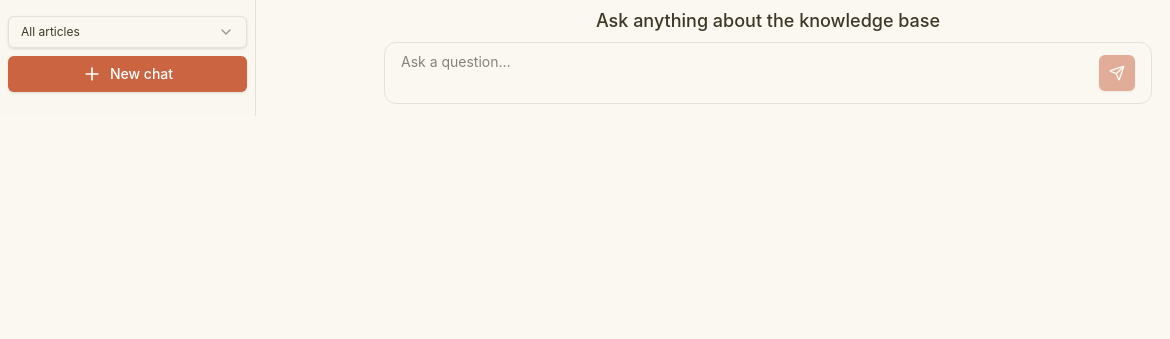
Chat page › streams answer, shows citation marker, source panel with Doc, and usage
The image size is (1170, 339).
Note: Find the textarea and type a query
Type "what is kaas" into the text box. click: (746, 73)
box: [401,51,1091,95]
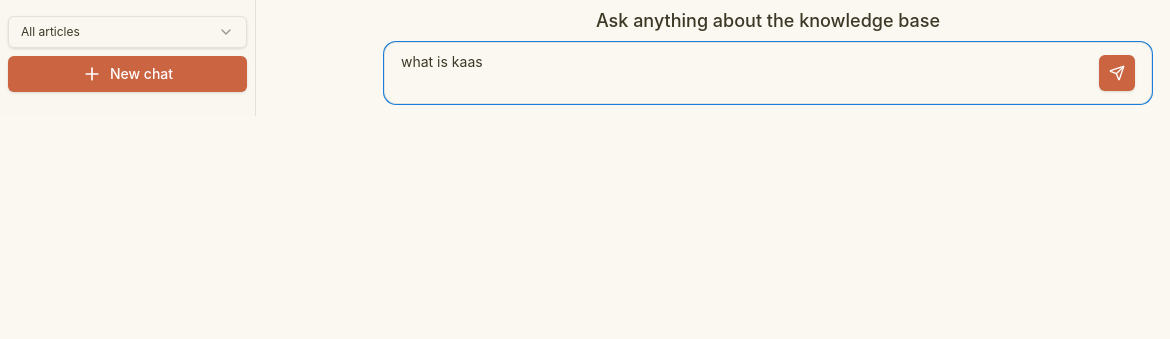
Note: Submit via Enter
Press Enter
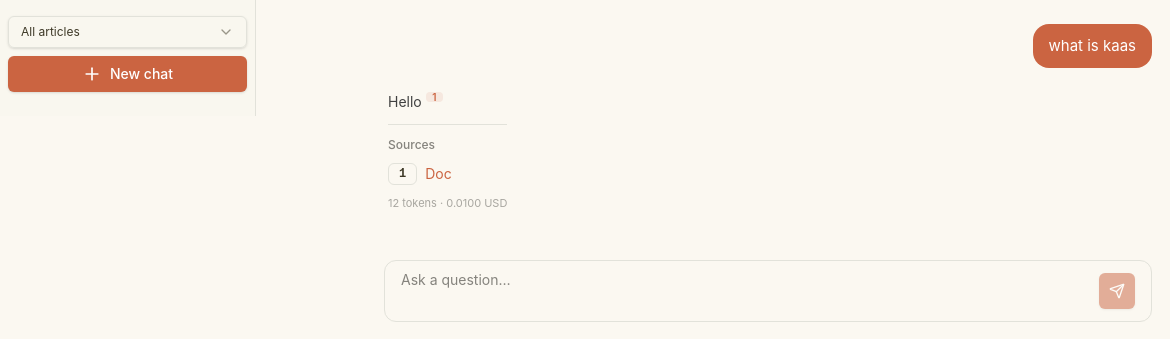
Expected: the text "Hello 1" is shown, [388,92,443,110]
Expected: the button named "Jump to source 1" is shown, [426,92,443,102]
Expected: the link "Doc" is shown, [425,164,452,184]
